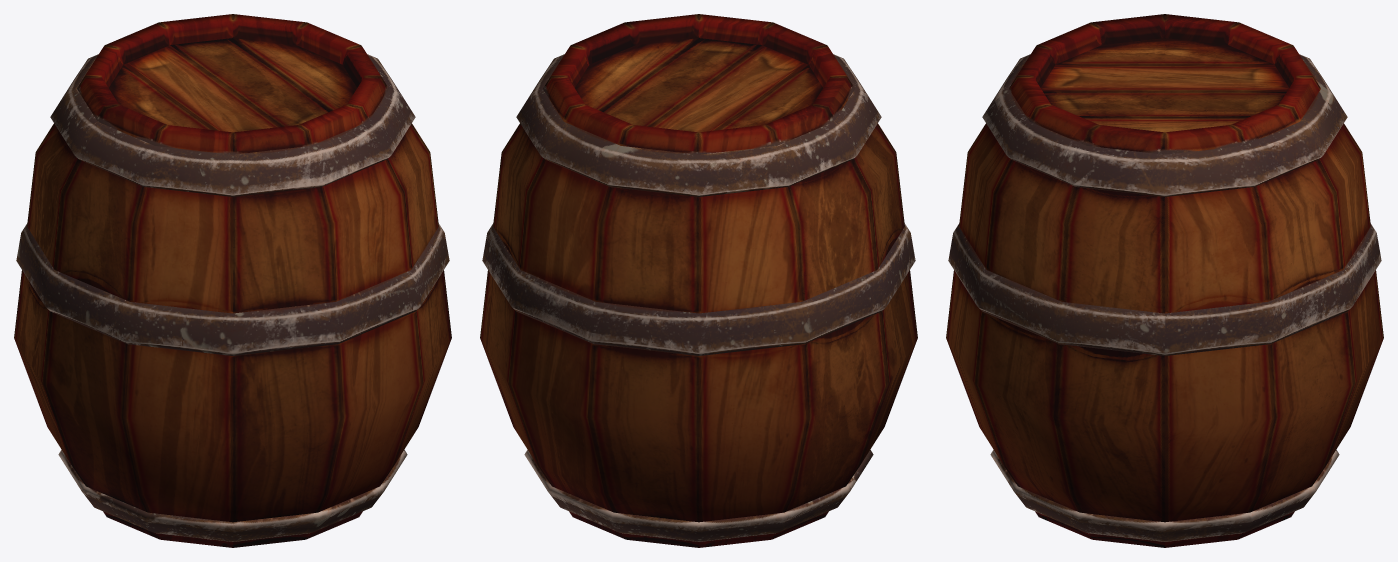
File: K_Barrel.fbx
3 renders of one model, left to right at view 1: azimuth 30°, elevation 25°; view 2: azimuth 150°, elevation 25°; view 3: azimuth 270°, elevation 25°, orthographic.
Parts seen in each view (by area): view 1: Barrel; view 2: Barrel; view 3: Barrel.
Boxes of the visible parts, x1,y1,x2,y2 form: Barrel: [14, 14, 451, 547]; Barrel: [480, 14, 917, 547]; Barrel: [946, 14, 1383, 547].
Bounding box in the file's own units: 90.16 × 93.08 × 90.16.
